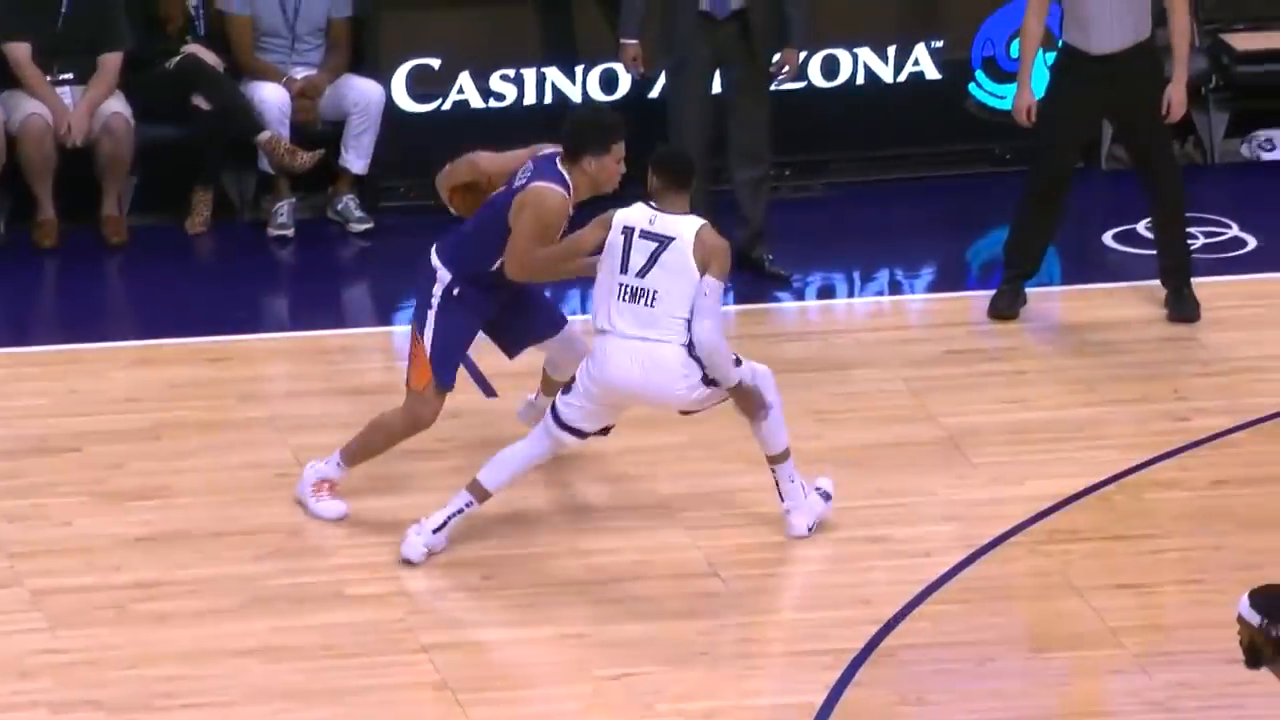ball: (443, 178, 516, 218)
